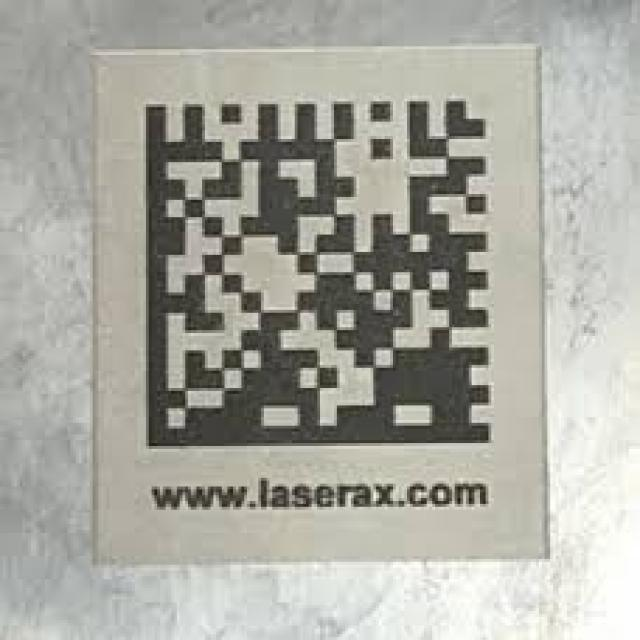datamatrix: (139, 97, 509, 459)
